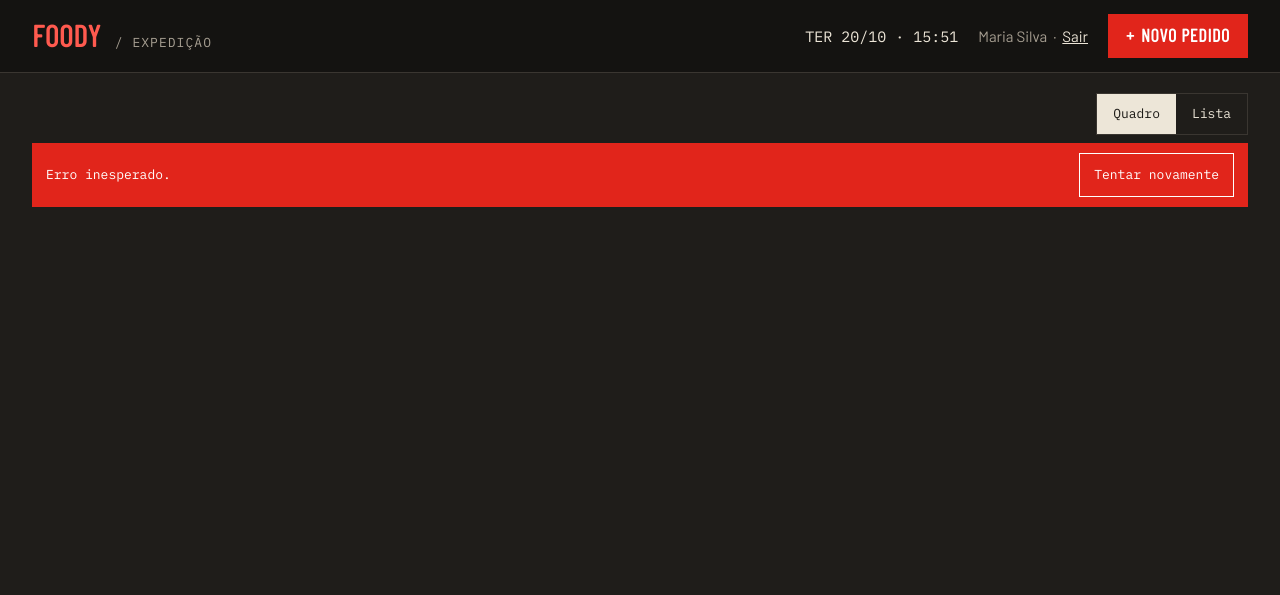
OrdersPage board › shows an error state with retry
The image size is (1280, 595).
Check: the message shows "Erro inesperado.", box [46, 166, 171, 183]
Click the button "Tentar novamente".
click(1157, 175)  # box [1079, 153, 1234, 197]
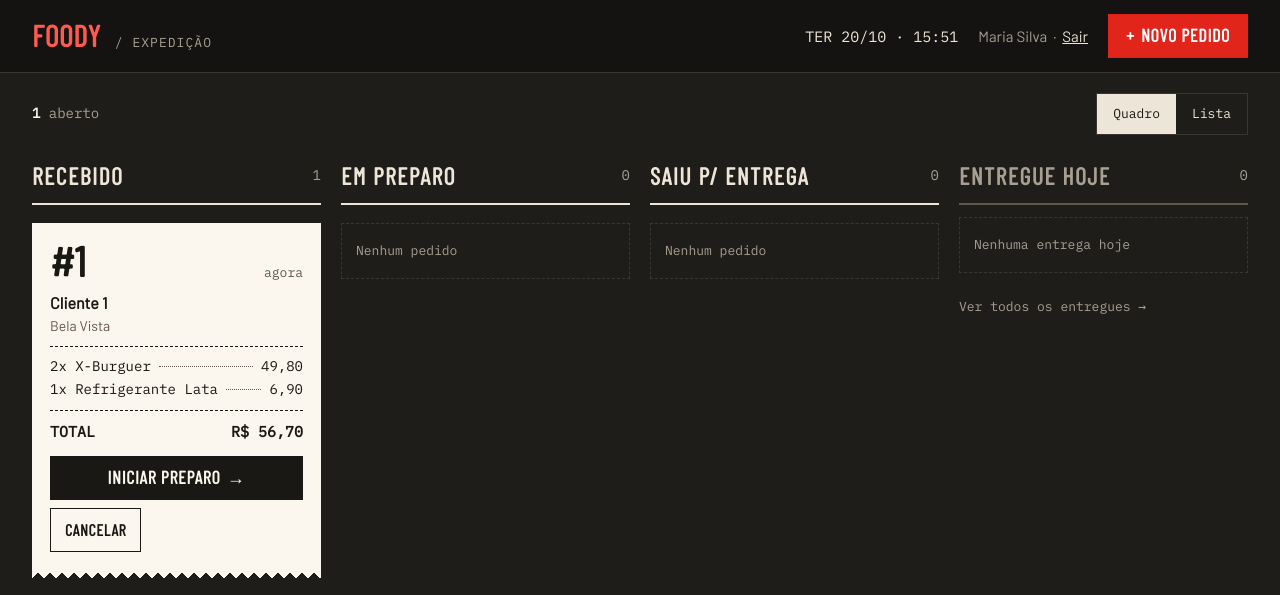
Check: the list item with aria-label "Pedido #1" is shown, box [32, 223, 321, 578]
